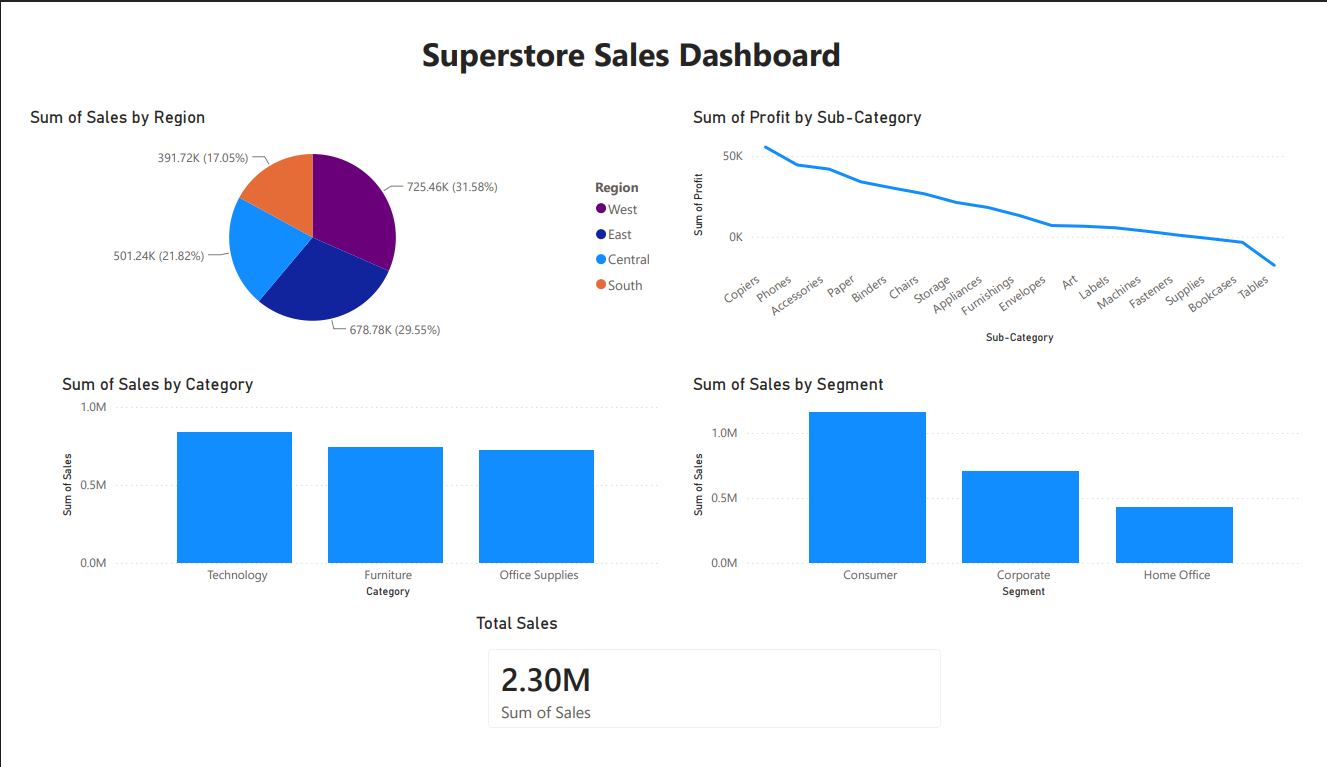

The dashboard page shown, as its layout file describes it:
{"tool":"powerbi","page":{"name":"Page 1","canvas":[1280,720],"ordinal":0},"visuals":[{"type":"clusteredColumnChart","fields":{"Category":["SampleSuperstore.Category"],"Y":["Sum(SampleSuperstore.Sales)"]},"box":[32.4,348.4,607.7,228.2],"z":0},{"type":"pieChart","fields":{"Category":["SampleSuperstore.Region"],"Y":["Sum(SampleSuperstore.Sales)"]},"box":[0,81,640.1,241.7],"z":1},{"type":"lineChart","fields":{"Category":["SampleSuperstore.Sub-Category"],"Y":["Sum(SampleSuperstore.Profit)"]},"box":[663.1,81,603.7,241.7],"z":2},{"type":"clusteredColumnChart","fields":{"Category":["SampleSuperstore.Segment"],"Y":["Sum(SampleSuperstore.Sales)"]},"box":[663.1,348.4,617.2,228.2],"z":3},{"type":"cardVisual","title":"Total Sales","fields":{"Data":["Sum(SampleSuperstore.Sales)"]},"box":[445.7,587.5,487.5,132.3],"z":4},{"type":"textbox","box":[391.6,0,449.7,64.8],"z":5}]}

Visuals, with their boxes in screenshot pixels (x1, y1, x2, y2), scaled from the page's 1280x720 canvas onto the 1327x767 screenshot:
clusteredColumnChart - SampleSuperstore.Category x Sum(SampleSuperstore.Sales): (left=34, top=371, right=664, bottom=614)
pieChart - SampleSuperstore.Region x Sum(SampleSuperstore.Sales): (left=0, top=86, right=664, bottom=344)
lineChart - SampleSuperstore.Sub-Category x Sum(SampleSuperstore.Profit): (left=687, top=86, right=1313, bottom=344)
clusteredColumnChart - SampleSuperstore.Segment x Sum(SampleSuperstore.Sales): (left=687, top=371, right=1326, bottom=614)
"Total Sales" cardVisual: (left=462, top=626, right=967, bottom=766)
textbox: (left=406, top=0, right=872, bottom=69)
